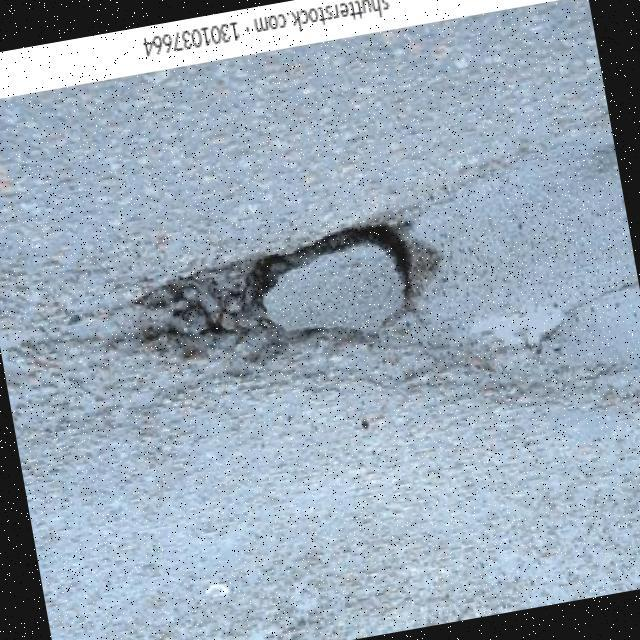Pothole: (109, 225, 439, 361)
